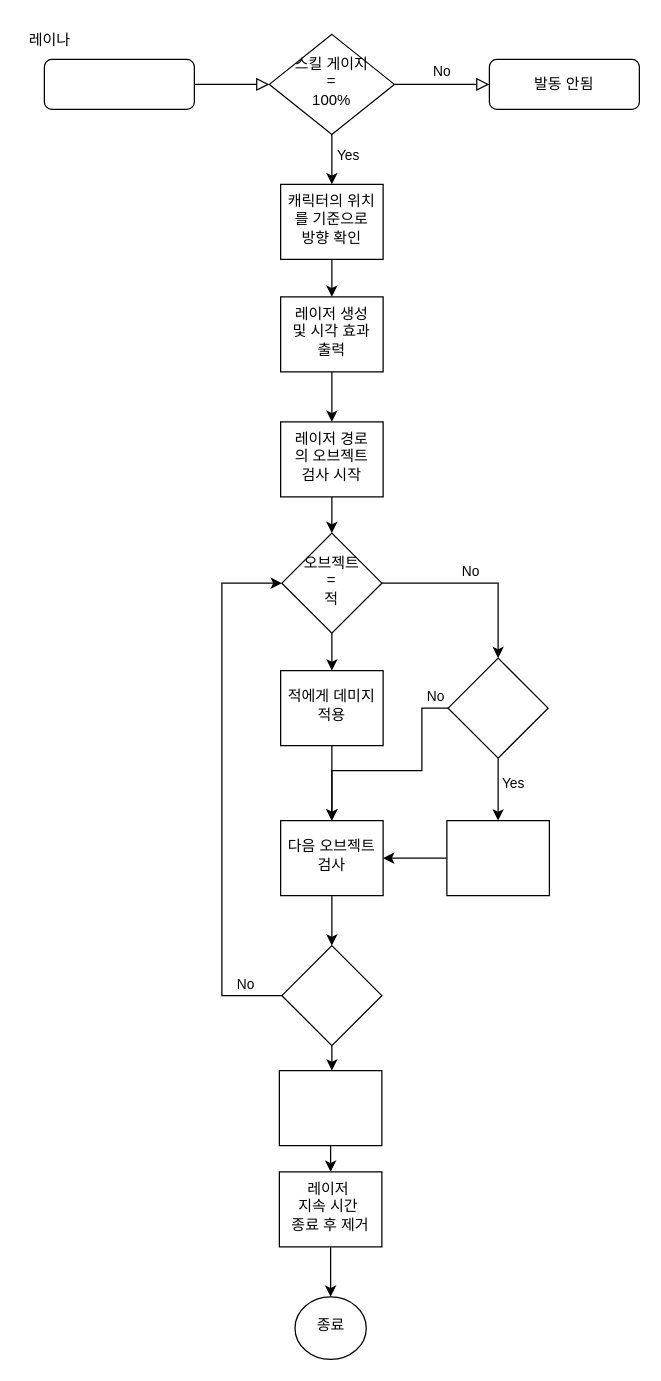
Image size: 661x1381. Some labels were removed from this diagram. The centre of each missing label's shape, as x and y in pixels:
검사 완료: point 330,1107
검사 종료 확인: point 331,995
스킬 키 입력: point 118,83
오브젝트 = 탄막: point 497,707
탄막 제거: point 497,857
